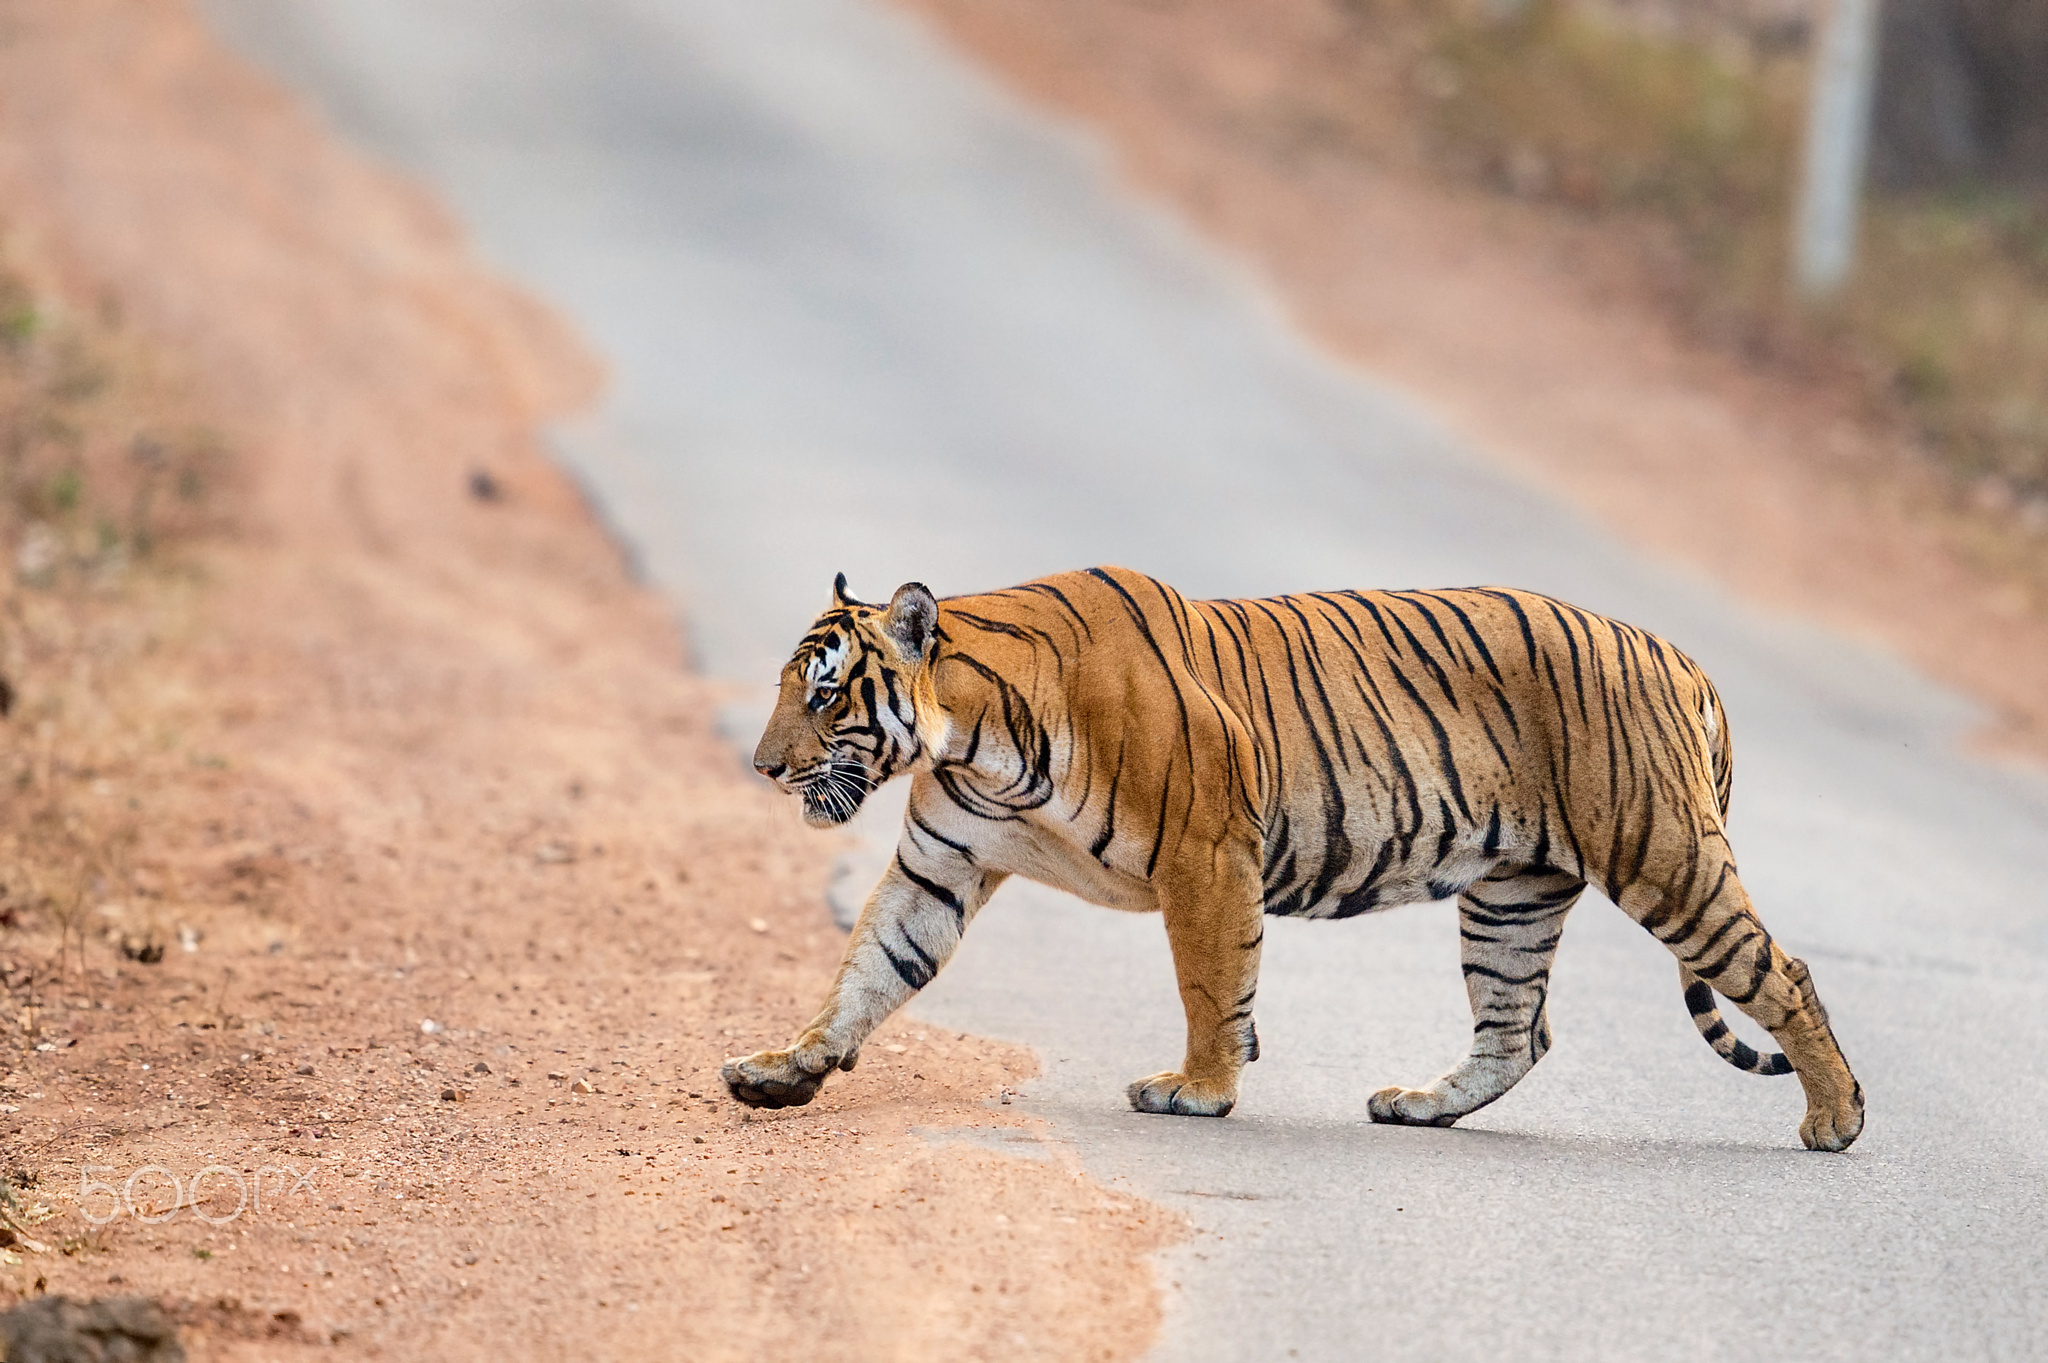tiger: (710, 552, 1882, 1180)
